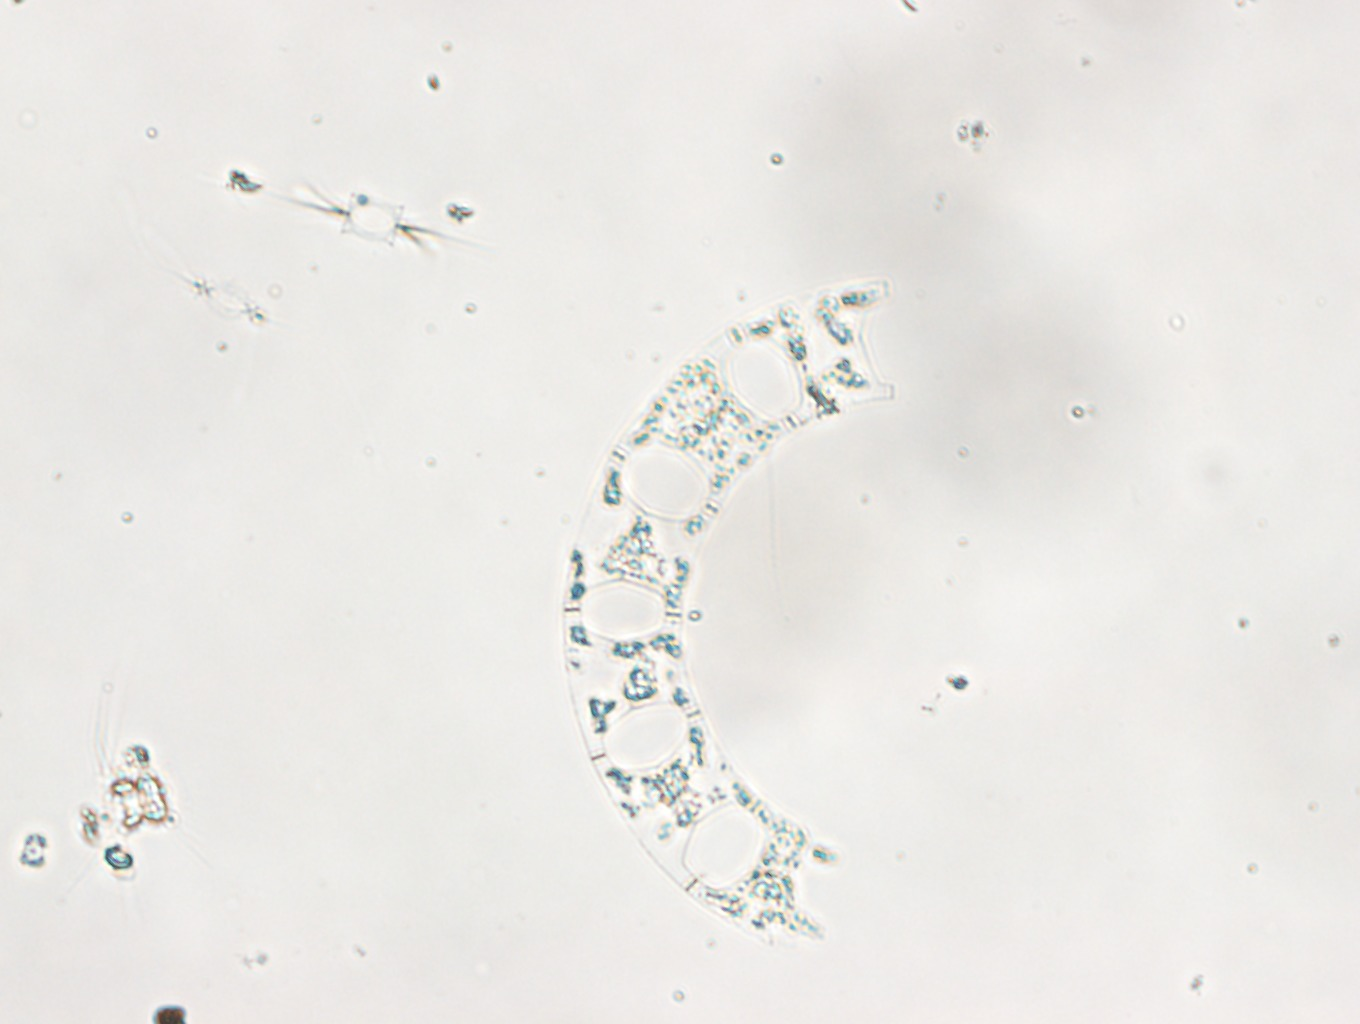chaetoceros: (285, 172, 458, 265)
eucampia: (552, 256, 901, 967)
